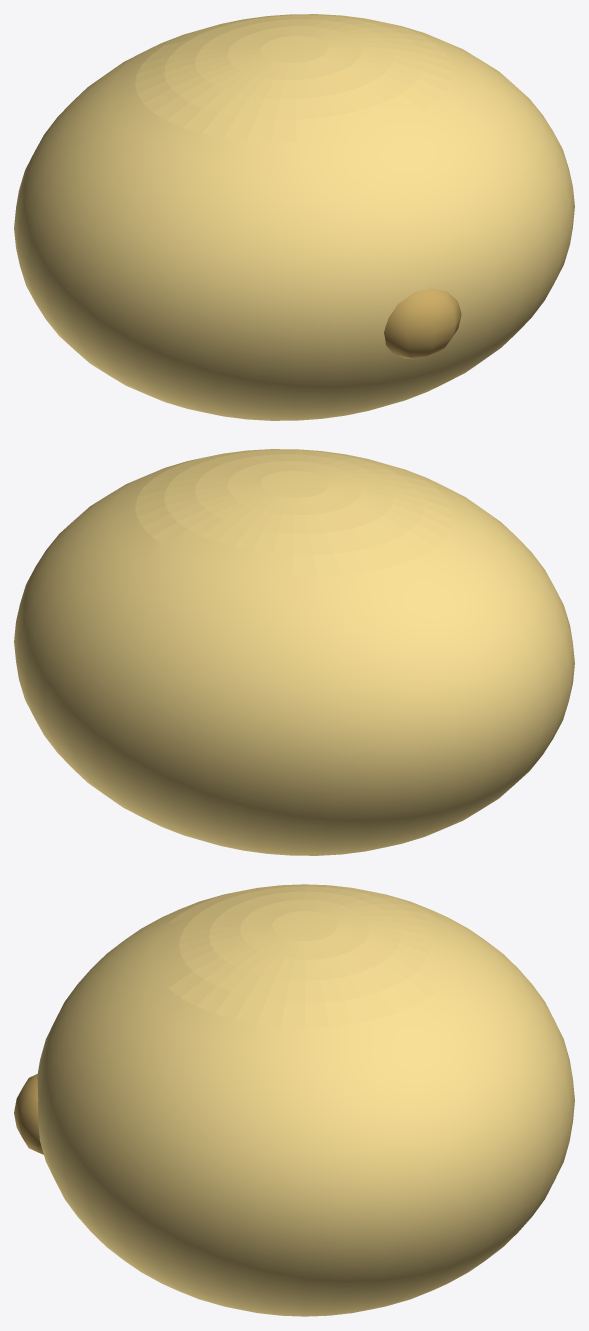
File: Acc_Bandana.fbx
3 views of the same model, one above another, from view 1: azimuth 30°, elevation 25°; view 2: azimuth 150°, elevation 25°; view 3: azimuth 270°, elevation 25° (orthographic). The views are drawn at different scales.
Parts seen in each view (by area): view 1: Bandana, Bandana_Knot; view 2: Bandana; view 3: Bandana, Bandana_Knot.
Boxes of the visible parts, box(x1,y1,x2,y2) form: Bandana: box(14, 14, 574, 420); Bandana_Knot: box(384, 288, 461, 359); Bandana: box(14, 449, 574, 855); Bandana: box(37, 884, 574, 1316); Bandana_Knot: box(14, 1074, 43, 1154).
Size of the model in its own units: 86 by 56 by 81.
